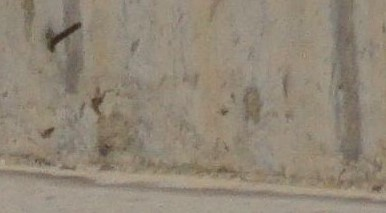Exposed reinforcement: (48, 21, 82, 52)
